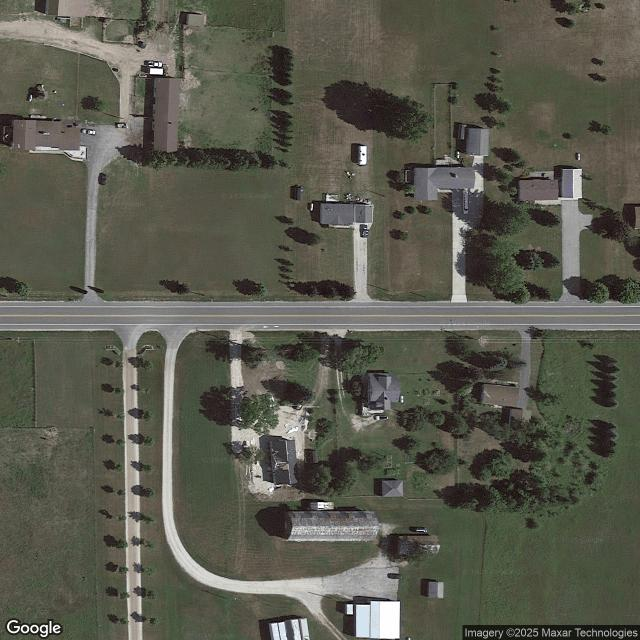Propane: (309, 203, 314, 212), (400, 395, 404, 404), (29, 94, 33, 102), (456, 151, 460, 159), (578, 153, 581, 161)
